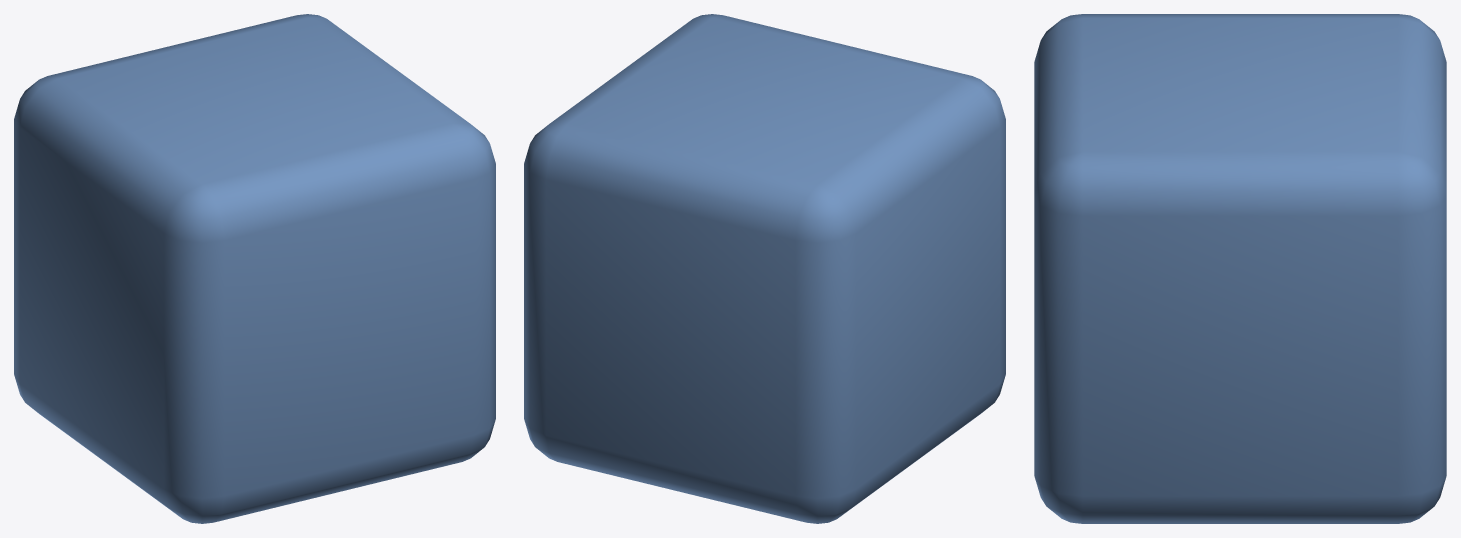
File: testChamferBox.FBX
3 views of the same model, side by side, from view 1: azimuth 30°, elevation 25°; view 2: azimuth 150°, elevation 25°; view 3: azimuth 270°, elevation 25° (orthographic). The views are drawn at different scales.
Visible parts, largest first — view 1: ChamferBox001; view 2: ChamferBox001; view 3: ChamferBox001.
Boxes of the visible parts, left/top/right/bottom form: ChamferBox001: left=14, top=14, right=495, bottom=523; ChamferBox001: left=524, top=14, right=1005, bottom=523; ChamferBox001: left=1034, top=14, right=1446, bottom=523.
Bounding box in the file's own units: 20 × 19.69 × 20.
Materials: 1 (1 with a texture image).
